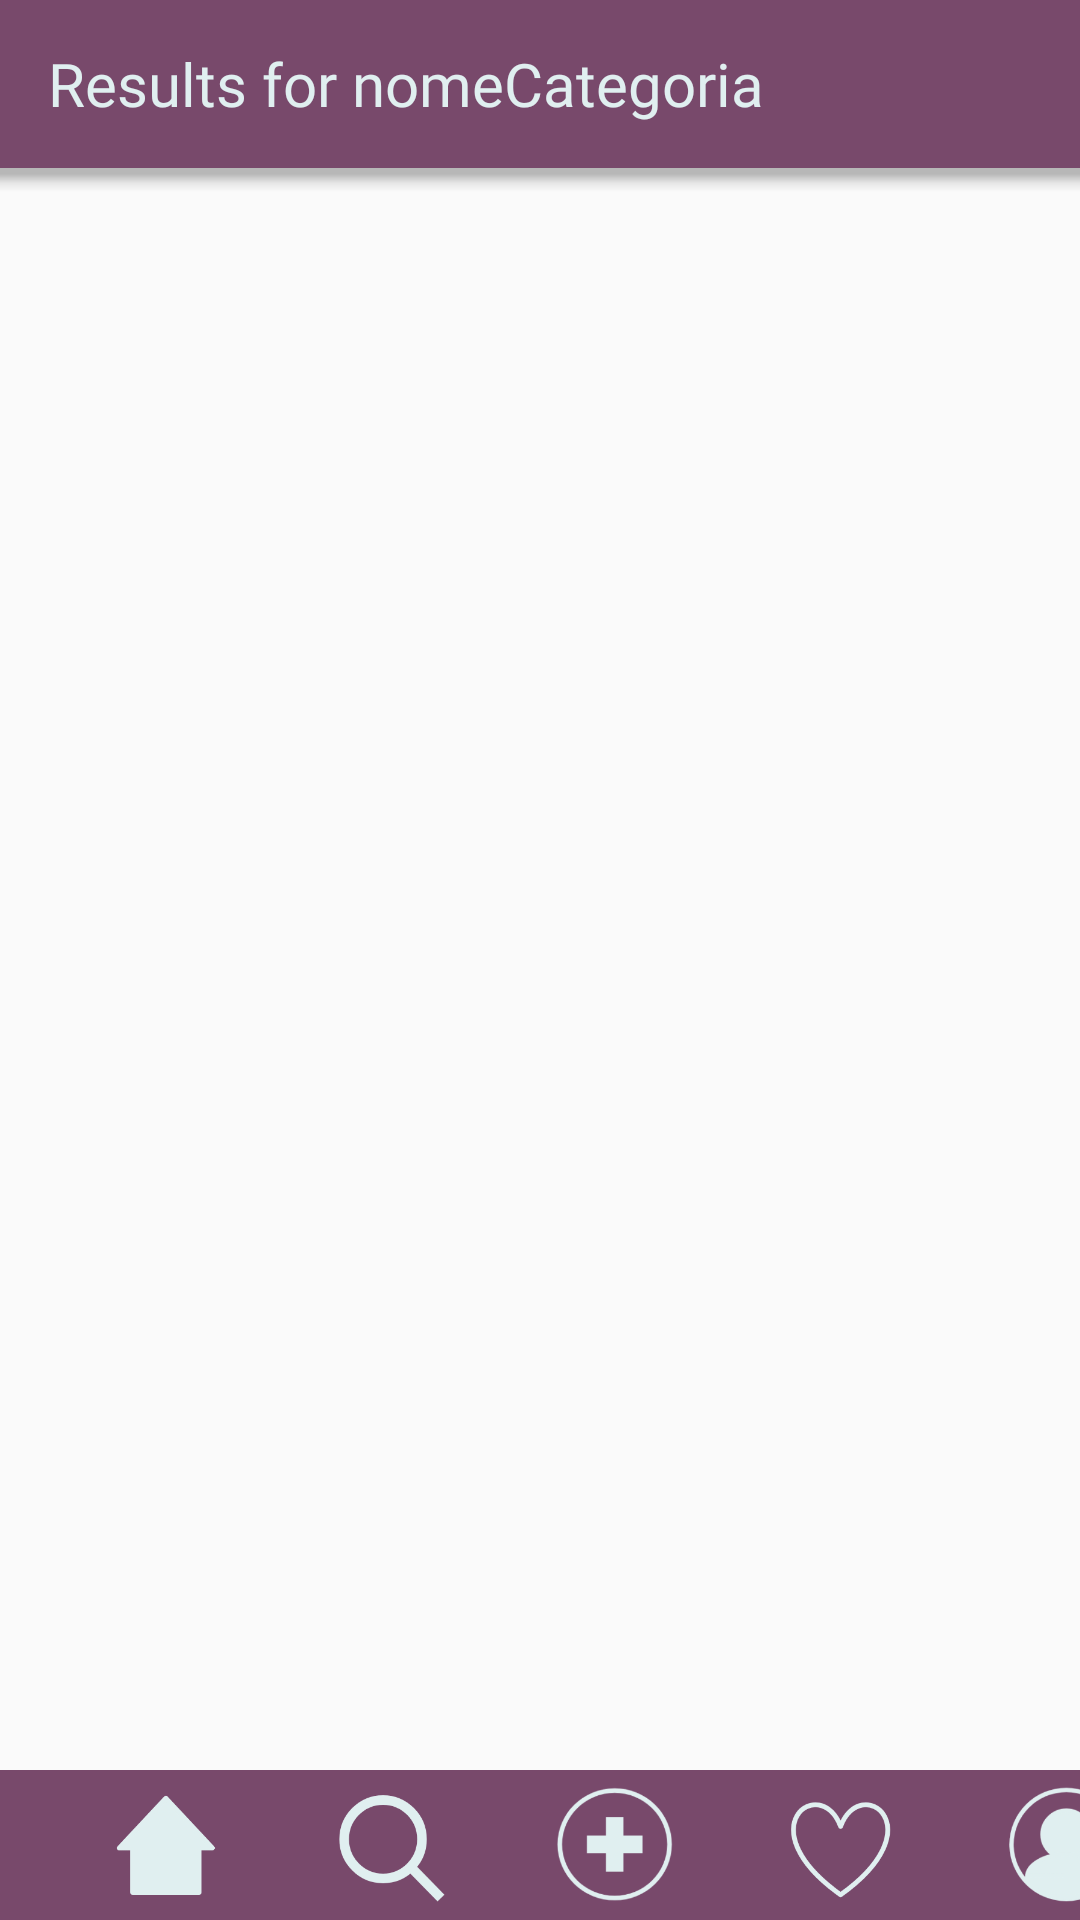

Icon click points for this 1080×1920 phone screenshot, format (x=x, y=y):
add: (x=614, y=1844)
home: (x=166, y=1845)
search: (x=392, y=1848)
